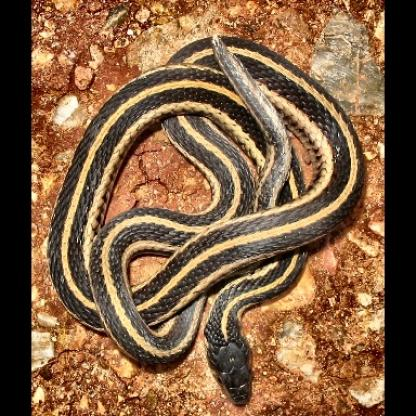Snake: (40, 23, 377, 416)
